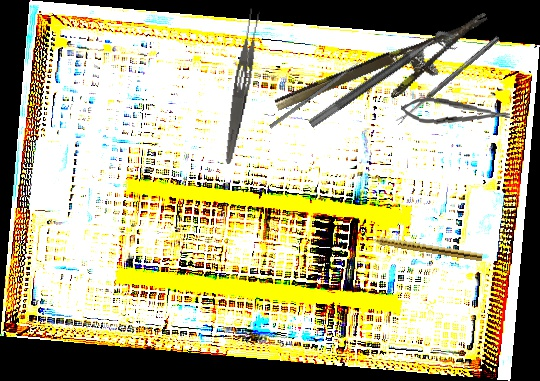Dressing Forceps: (221, 7, 264, 166)
Fixation Ring: (307, 26, 460, 140)
Handpiece: (362, 232, 484, 262)
Needle Holder: (273, 12, 502, 140), (400, 95, 511, 130)
Pusher: (268, 57, 366, 129)
Surgical Spoon: (394, 34, 501, 126)
